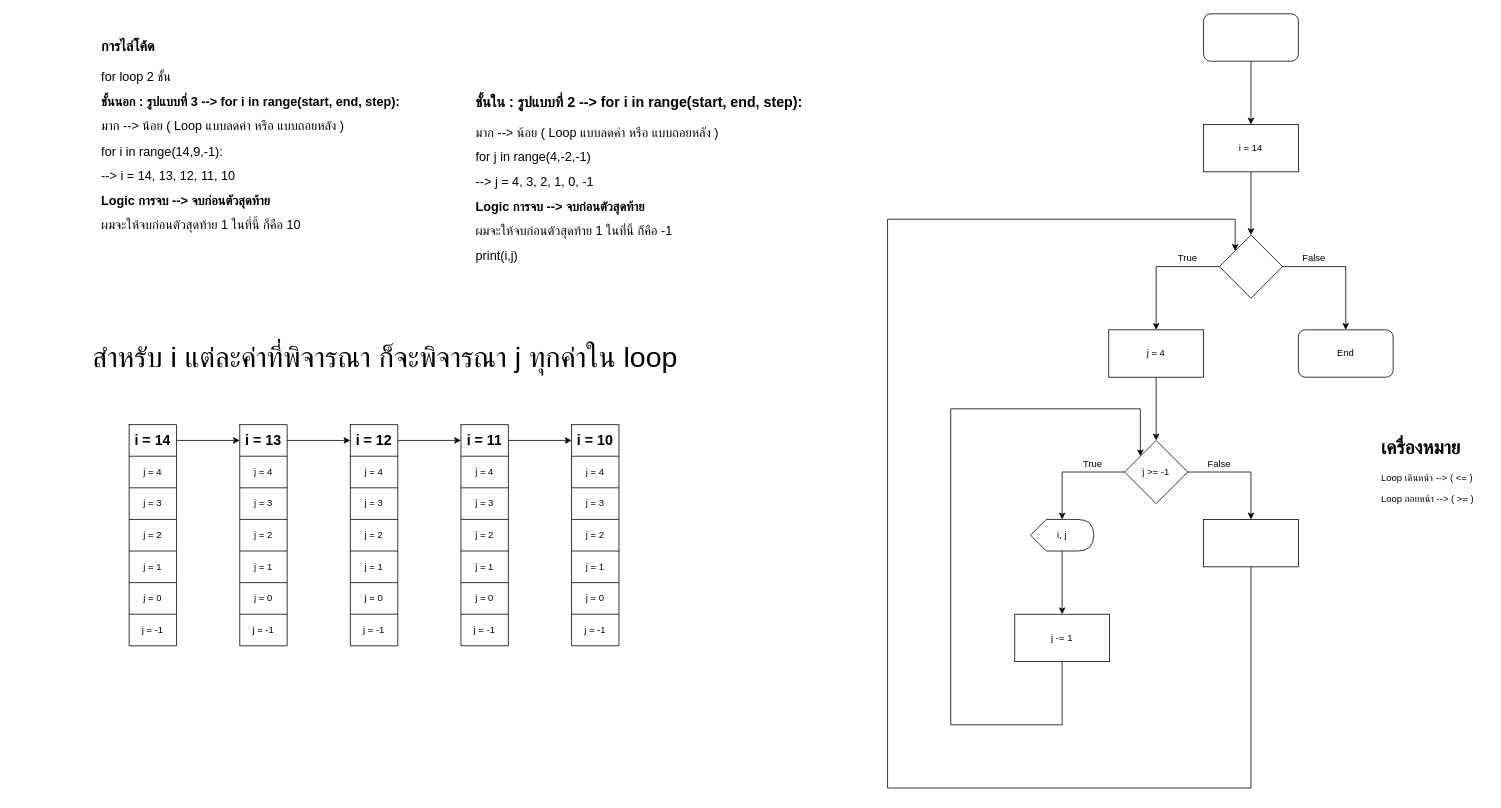
Some shapes in this 1501 by 808 pixel diagram are drawn without their labels. The centre of each missing label's shape, as x and y in pixels:
"i -= 1" belongs at [1250,543].
"i >= 10" belongs at [1251,266].
"start" belongs at [1250,37].
